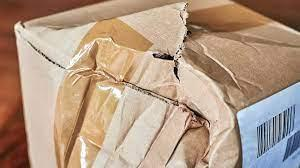damage_box: (13, 0, 298, 167)
